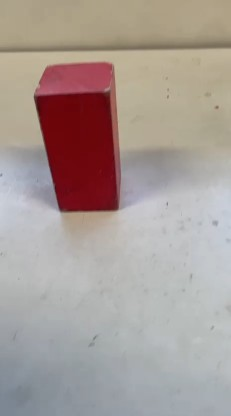red: (27, 60, 120, 206)
